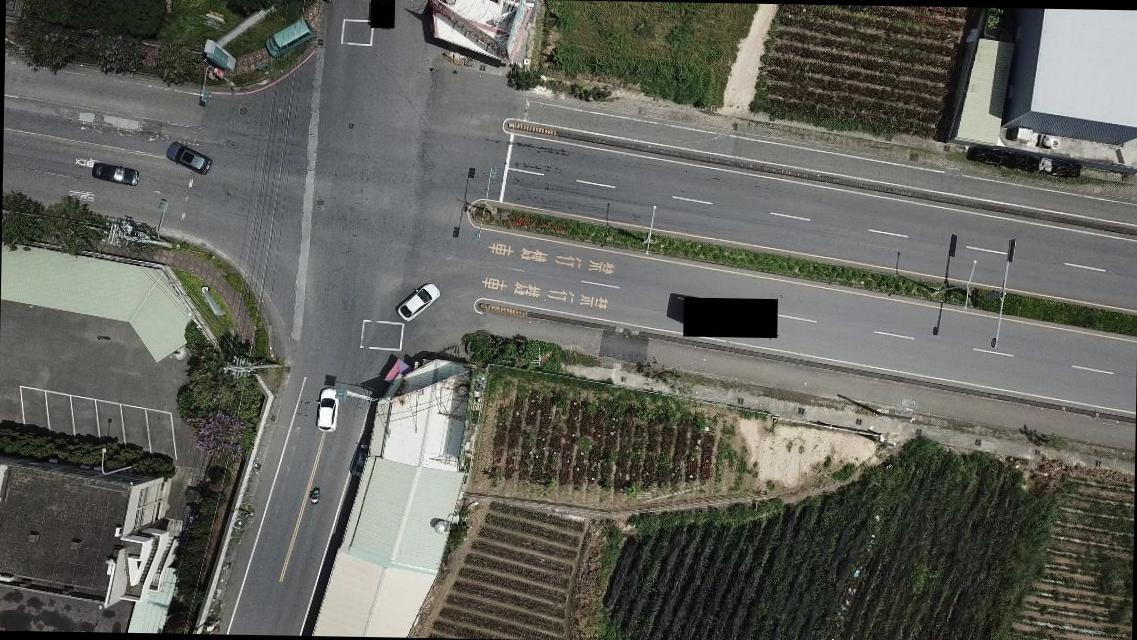vehicle: (394, 279, 442, 323), (264, 16, 313, 56), (168, 141, 210, 176), (90, 160, 140, 188), (313, 387, 339, 433)
